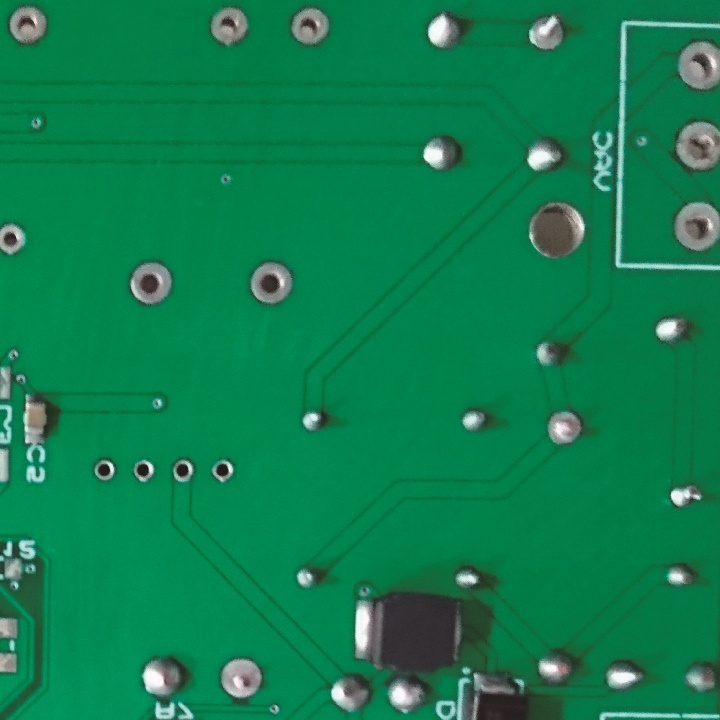F: (125, 256, 176, 309), (672, 200, 720, 255), (673, 36, 720, 92), (215, 650, 267, 700), (247, 259, 296, 309), (675, 119, 720, 171), (286, 4, 333, 49), (7, 4, 53, 47), (541, 407, 587, 449), (208, 5, 251, 49), (525, 12, 566, 53), (1, 222, 30, 257), (208, 454, 235, 486), (90, 458, 119, 483), (171, 458, 197, 485), (132, 458, 156, 485)
